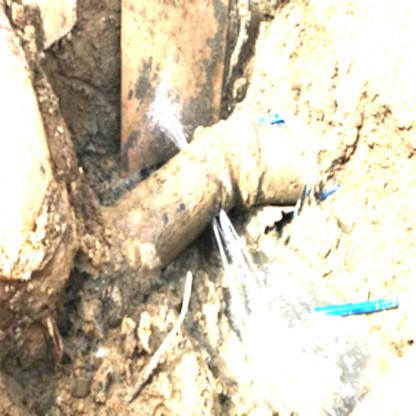burst: (198, 187, 251, 243), (153, 119, 204, 174)
